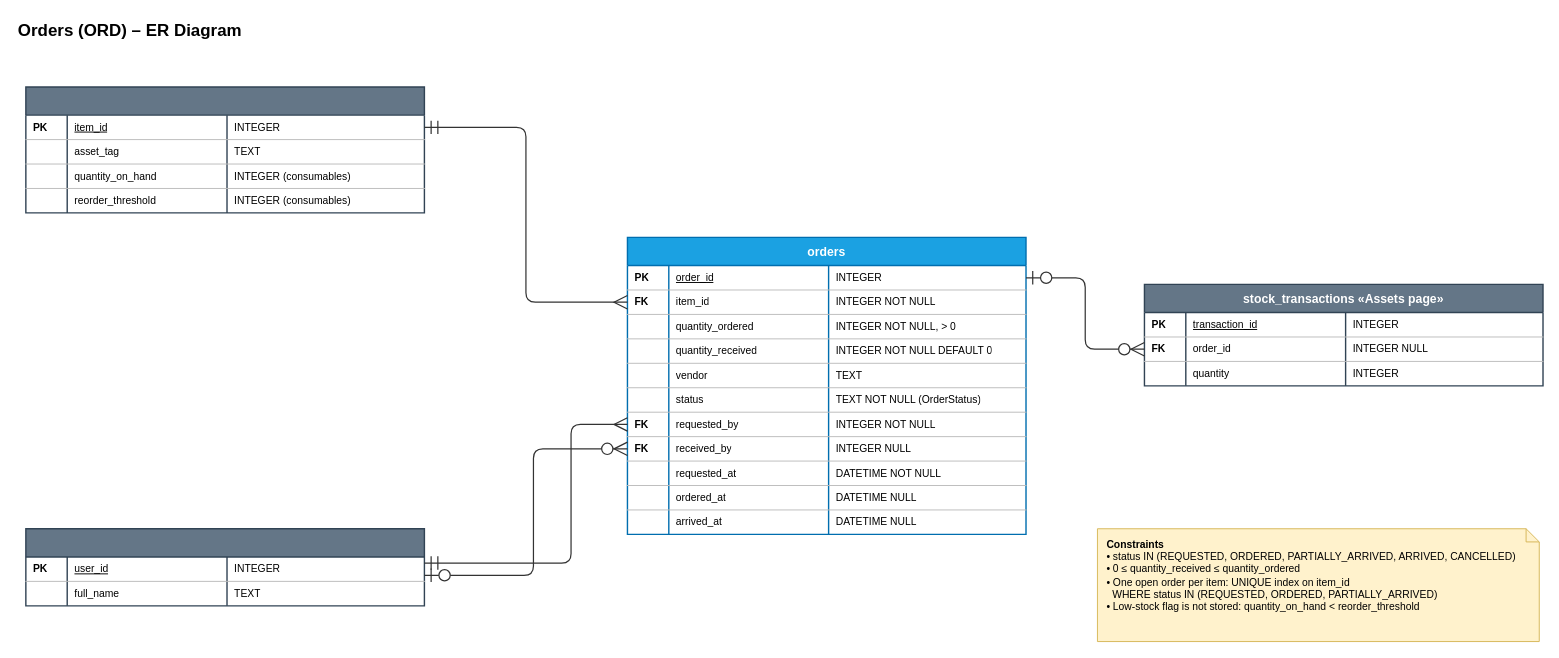
Some shapes in this 1559 by 658 pixel diagram are drawn without their labels. The shapes that lost their labels are listed below. From the top down, each one's box as (x1, y1, x2, y2) in pixels, then its label:
(25, 86, 425, 213): items «Assets page»
(25, 528, 425, 606): users «Login & Users page»
